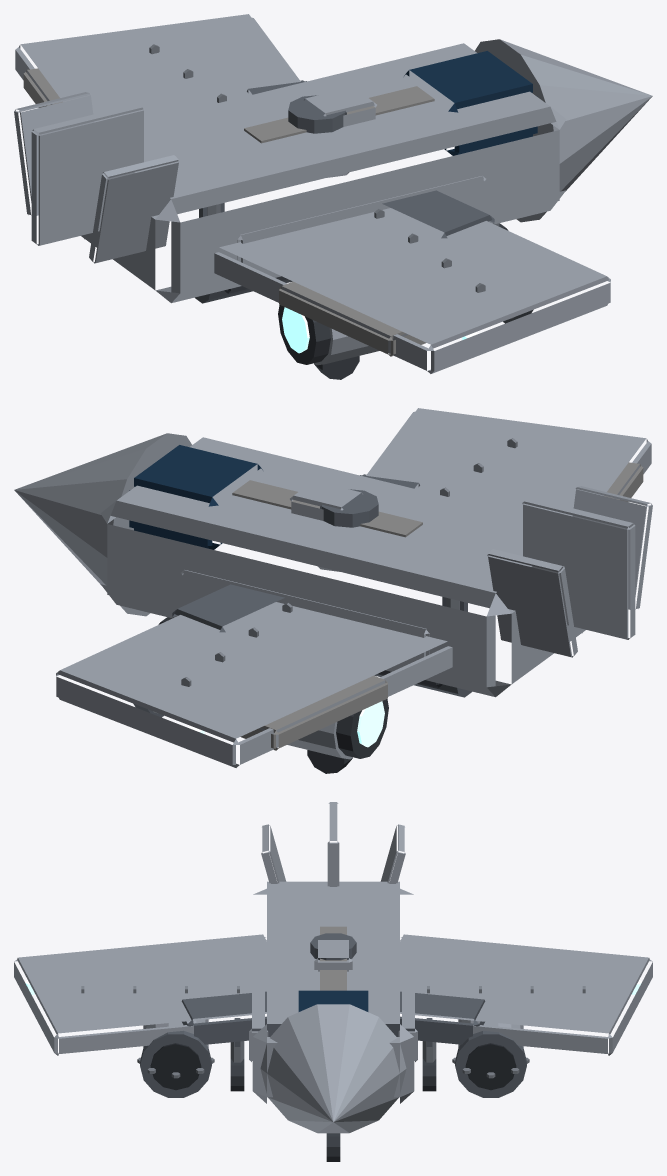
Rendered from con_anvil.glb.
3 views of the same model, one above another, from view 1: azimuth 30°, elevation 25°; view 2: azimuth 150°, elevation 25°; view 3: azimuth 270°, elevation 25° (orthographic). The views are drawn at different scales.
Visible parts, largest first — view 1: body, turret; view 2: body, turret; view 3: body, turret.
Part boxes in pixels (<box>): body: <box>14,14,652,379</box>; turret: <box>288,87,376,133</box>; body: <box>14,408,652,773</box>; turret: <box>290,481,378,527</box>; body: <box>14,802,652,1161</box>; turret: <box>310,933,356,971</box>.
Bounding box in the file's own units: 42.9 × 17.1 × 49.9.
